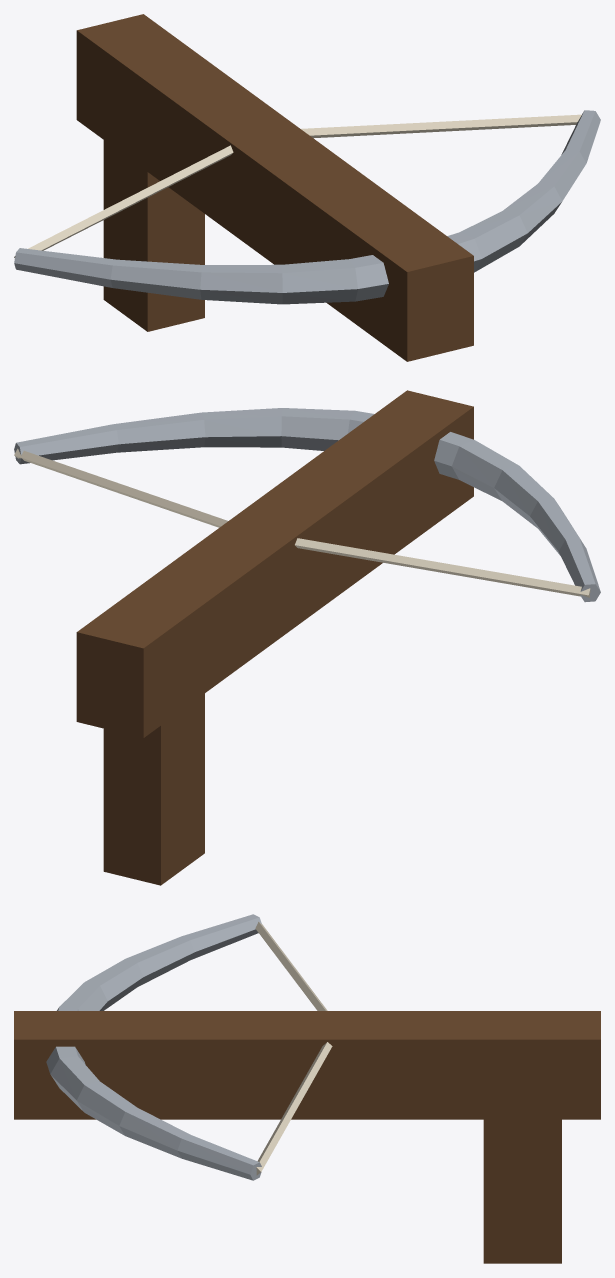
Rendered from g-crossbow-hand.glb.
3 renders of one model, top to bottom at view 1: azimuth 30°, elevation 25°; view 2: azimuth 150°, elevation 25°; view 3: azimuth 270°, elevation 25°, orthographic. The views are drawn at different scales.
Parts seen in each view (by area): view 1: g-crossbow-hand; view 2: g-crossbow-hand; view 3: g-crossbow-hand.
Part boxes in pixels (left/top/right/bottom): g-crossbow-hand: left=14, top=14, right=600, bottom=361; g-crossbow-hand: left=14, top=390, right=600, bottom=885; g-crossbow-hand: left=14, top=914, right=600, bottom=1263.
Bounding box in the file's own units: 0.3077 × 0.1275 × 0.3.
